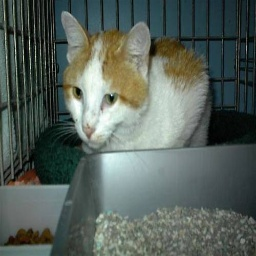cat: (53, 8, 214, 183)
